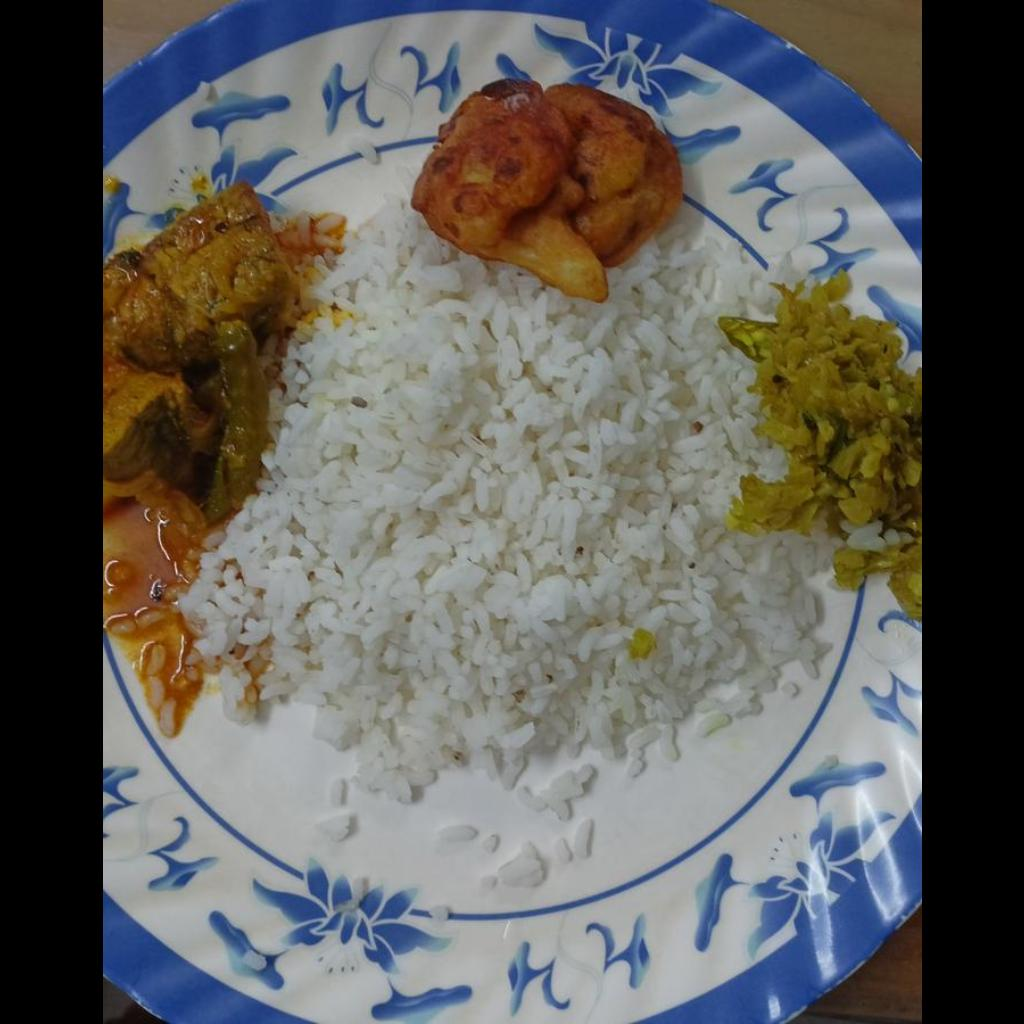beef: (104, 180, 283, 468)
chop-alu: (409, 87, 678, 300)
rice: (190, 203, 827, 809)
vaji: (721, 283, 920, 626)
